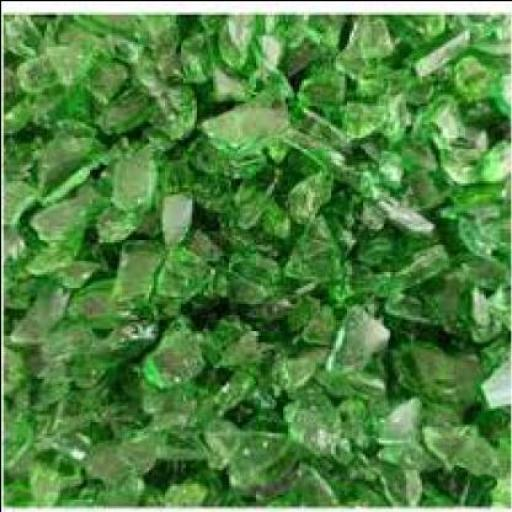glass: (380, 254, 470, 340), (66, 296, 159, 371), (430, 257, 510, 339), (380, 351, 485, 410), (218, 239, 304, 311), (434, 189, 510, 270), (198, 95, 294, 157), (7, 266, 73, 346), (326, 308, 390, 389), (403, 93, 476, 164), (130, 323, 202, 392), (30, 134, 96, 207), (228, 432, 300, 494), (134, 82, 207, 143), (419, 421, 498, 477), (25, 186, 98, 246), (278, 380, 330, 462), (280, 214, 342, 282), (405, 21, 480, 77), (221, 162, 277, 237), (196, 20, 260, 84), (335, 401, 384, 484), (320, 95, 384, 157), (191, 364, 257, 424), (439, 136, 510, 190), (232, 30, 289, 96), (98, 148, 154, 214), (466, 403, 510, 484), (453, 48, 509, 110), (268, 178, 330, 234), (105, 47, 173, 98), (264, 335, 328, 389), (114, 18, 178, 72), (30, 84, 102, 132), (71, 54, 132, 110), (256, 466, 336, 508), (1, 232, 43, 310), (186, 319, 262, 362), (153, 246, 204, 310), (98, 243, 162, 294), (362, 62, 426, 112), (362, 398, 416, 457), (473, 332, 510, 418), (1, 309, 43, 383), (43, 346, 105, 396), (164, 27, 216, 86), (336, 462, 406, 505), (355, 200, 430, 239), (55, 287, 119, 332), (416, 473, 496, 508), (255, 271, 316, 316), (23, 225, 82, 271), (390, 161, 441, 214), (335, 16, 391, 64), (366, 105, 414, 161), (91, 434, 150, 478), (29, 41, 84, 87), (458, 91, 509, 139), (1, 52, 30, 135), (374, 446, 416, 503), (330, 264, 380, 310), (145, 198, 185, 255), (328, 63, 392, 98), (100, 394, 146, 442), (0, 18, 50, 62), (143, 398, 200, 435), (241, 378, 287, 423), (91, 100, 143, 139), (192, 418, 234, 466), (161, 142, 198, 196), (27, 425, 89, 457), (355, 154, 398, 200), (80, 209, 134, 244), (150, 430, 209, 462), (54, 468, 96, 510), (55, 396, 106, 430), (194, 71, 248, 103), (389, 229, 432, 269), (184, 180, 228, 219), (355, 232, 398, 271), (1, 179, 30, 235), (473, 20, 510, 62), (0, 380, 37, 422), (2, 419, 30, 473), (59, 259, 99, 296), (1, 132, 30, 182), (25, 464, 59, 506), (94, 478, 136, 508), (16, 64, 58, 94), (1, 465, 27, 510), (29, 378, 55, 423), (166, 481, 203, 505), (216, 485, 255, 507), (202, 468, 221, 506), (137, 482, 161, 504)
